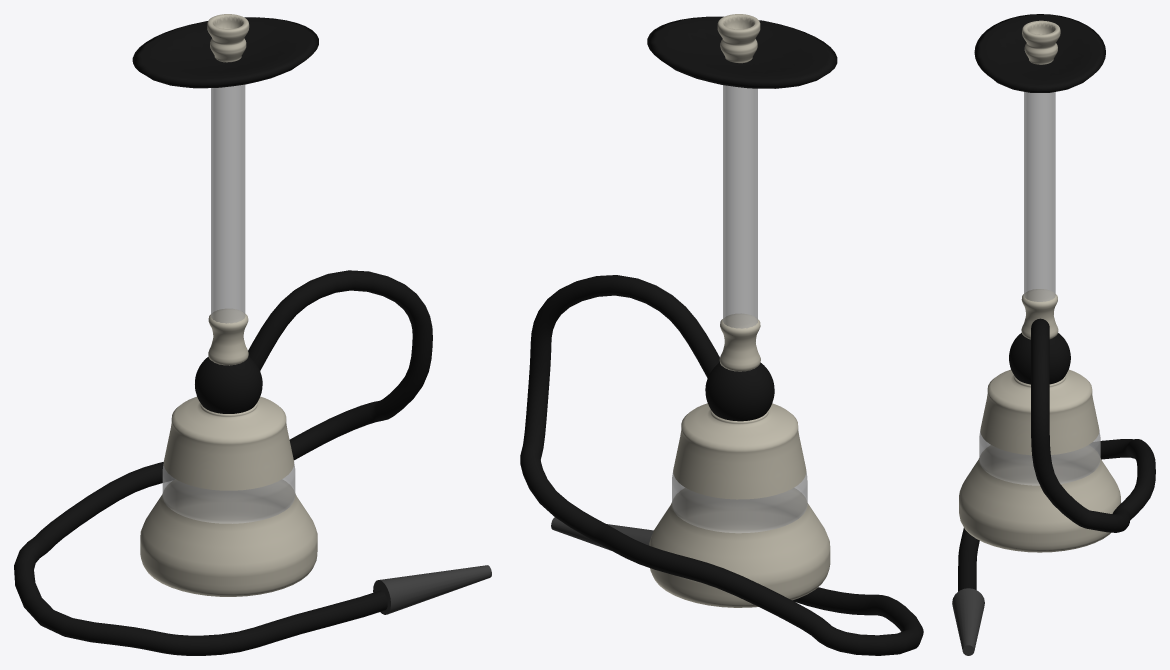
The model's file is ChichaGeo.fbx.
3 views of the same model, side by side, from view 1: azimuth 30°, elevation 25°; view 2: azimuth 150°, elevation 25°; view 3: azimuth 270°, elevation 25° (orthographic). The views are drawn at different scales.
Parts seen in each view (by area): view 1: pCylinder10; view 2: pCylinder10; view 3: pCylinder10.
Boxes of the visible parts, left/top/right/bottom form: pCylinder10: left=14, top=14, right=491, bottom=655; pCylinder10: left=520, top=14, right=923, bottom=655; pCylinder10: left=952, top=14, right=1155, bottom=655.
Bounding box in the file's own units: 134 × 187 × 63.9.
